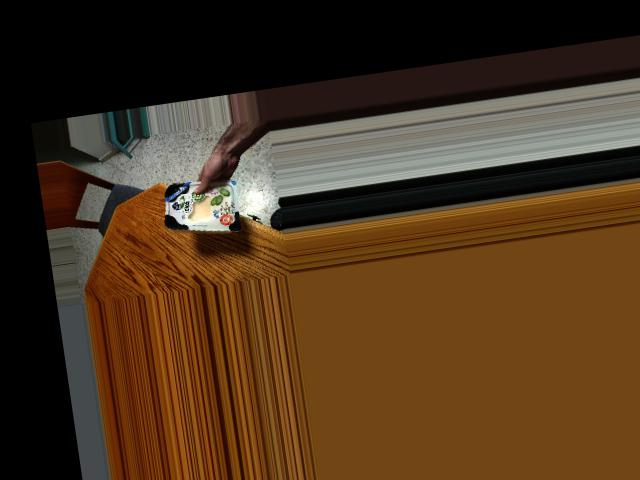cheese: (159, 166, 243, 240)
